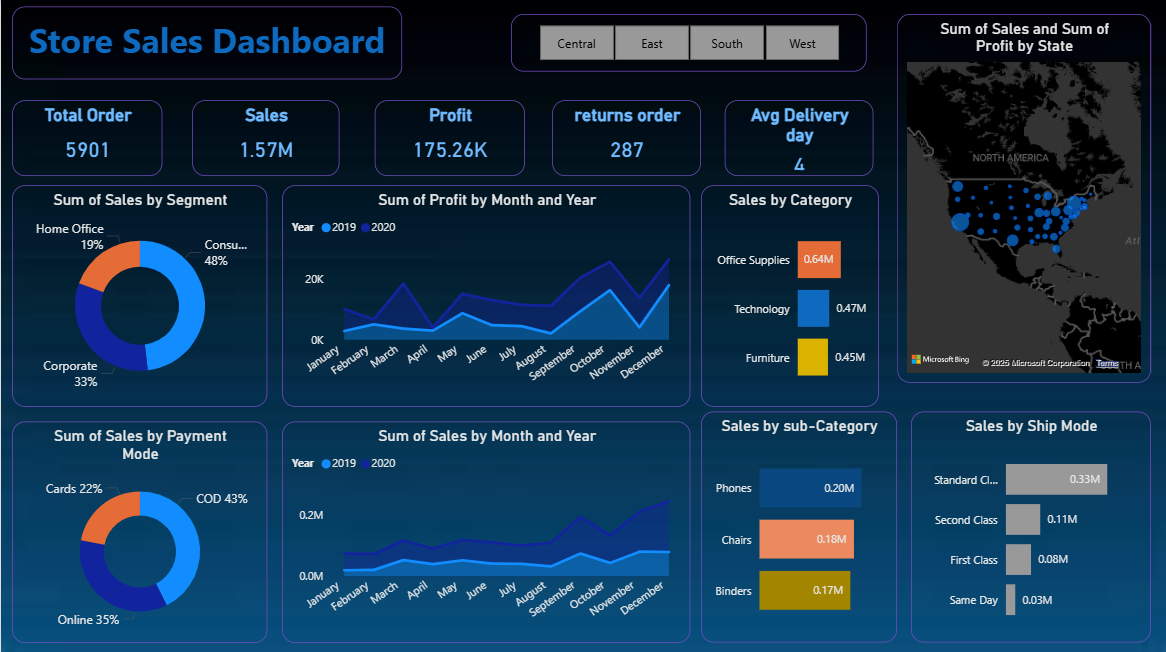

Layout of this report page (visuals, bound fields, positions):
{"tool":"powerbi","page":{"name":"Page 1","canvas":[1280,720],"ordinal":0},"visuals":[{"type":"clusteredBarChart","title":"Sales by Category","fields":{"Category":["SuperStore_Sales_Dataset (1).Category"],"Y":["Sum(SuperStore_Sales_Dataset (1).Sales)"]},"box":[768.3,205,195,243.3],"z":0},{"type":"clusteredBarChart","title":"Sales by sub-Category","fields":{"Category":["SuperStore_Sales_Dataset (1).Sub-Category"],"Y":["Sum(SuperStore_Sales_Dataset (1).Sales)"]},"box":[768.3,453.3,215,253.3],"z":1000},{"type":"clusteredBarChart","title":"Sales by Ship Mode","fields":{"Category":["SuperStore_Sales_Dataset (1).Ship Mode"],"Y":["Sum(SuperStore_Sales_Dataset (1).Sales)"]},"box":[998.3,453.3,263.3,253.3],"z":2000},{"type":"stackedAreaChart","fields":{"Category":["SuperStore_Sales_Dataset (1).Order Date.Variation.Date Hierarchy.Month","SuperStore_Sales_Dataset (1).Order Date.Variation.Date Hierarchy.Day"],"Y":["Sum(SuperStore_Sales_Dataset (1).Sales)"],"Series":["SuperStore_Sales_Dataset (1).Order Date.Variation.Date Hierarchy.Year"]},"box":[308.3,463.3,448.3,243.3],"z":3000},{"type":"stackedAreaChart","fields":{"Category":["SuperStore_Sales_Dataset (1).Order Date.Variation.Date Hierarchy.Month","SuperStore_Sales_Dataset (1).Order Date.Variation.Date Hierarchy.Day"],"Series":["SuperStore_Sales_Dataset (1).Order Date.Variation.Date Hierarchy.Year"],"Y":["Sum(SuperStore_Sales_Dataset (1).Profit)"]},"box":[308.3,205,448.3,243.3],"z":4000},{"type":"map","fields":{"Category":["SuperStore_Sales_Dataset (1).State"],"Size":["Sum(SuperStore_Sales_Dataset (1).Sales)"]},"box":[983.3,16.7,278.3,405],"z":5000},{"type":"donutChart","fields":{"Category":["SuperStore_Sales_Dataset (1).Segment"],"Y":["Sum(SuperStore_Sales_Dataset (1).Sales)"]},"box":[11.7,205,280,243.3],"z":6000},{"type":"donutChart","fields":{"Category":["SuperStore_Sales_Dataset (1).Payment Mode"],"Y":["Sum(SuperStore_Sales_Dataset (1).Sales)"]},"box":[11.7,463.3,280,243.3],"z":7000},{"type":"slicer","fields":{"Values":["SuperStore_Sales_Dataset (1).Region"]},"box":[560,16.7,390,63.3],"z":8000},{"type":"textbox","box":[11.7,8.3,428.3,80],"z":9000},{"type":"card","title":"Sales","fields":{"Values":["Sum(SuperStore_Sales_Dataset (1).Sales)"]},"box":[210,111.7,161.7,83.3],"z":10000},{"type":"card","title":"Profit","fields":{"Values":["Sum(SuperStore_Sales_Dataset (1).Profit)"]},"box":[410,111.7,165,83.3],"z":11000},{"type":"card","title":"Total Order","fields":{"Values":["CountNonNull(SuperStore_Sales_Dataset (1).Order ID)"]},"box":[11.7,111.7,165,83.3],"z":12000},{"type":"card","title":"returns order","fields":{"Values":["Avg(SuperStore_Sales_Dataset (1).returnorder)"]},"box":[605,111.7,163.3,83.3],"z":13000},{"type":"card","title":"Avg Delivery day","fields":{"Values":["Avg(SuperStore_Sales_Dataset (1).avgdelivery)"]},"box":[795,111.7,163.3,83.3],"z":14000}]}

Visuals, with their boxes in screenshot pixels (x1, y1, x2, y2), scaled from the page's 1280x720 canvas onto the 1166x652 screenshot:
"Sales by Category" clusteredBarChart: 700/186/878/406
"Sales by sub-Category" clusteredBarChart: 700/410/896/640
"Sales by Ship Mode" clusteredBarChart: 909/410/1149/640
stackedAreaChart - SuperStore_Sales_Dataset (1).Order Date.Variation.Date Hierarchy.Month x SuperStore_Sales_Dataset (1).Order Date.Variation.Date Hierarchy.Day: 281/420/689/640
stackedAreaChart - SuperStore_Sales_Dataset (1).Order Date.Variation.Date Hierarchy.Month x SuperStore_Sales_Dataset (1).Order Date.Variation.Date Hierarchy.Day: 281/186/689/406
map - SuperStore_Sales_Dataset (1).State x Sum(SuperStore_Sales_Dataset (1).Sales): 896/15/1149/382
donutChart - SuperStore_Sales_Dataset (1).Segment x Sum(SuperStore_Sales_Dataset (1).Sales): 11/186/266/406
donutChart - SuperStore_Sales_Dataset (1).Payment Mode x Sum(SuperStore_Sales_Dataset (1).Sales): 11/420/266/640
slicer - SuperStore_Sales_Dataset (1).Region: 510/15/865/72
textbox: 11/8/401/80
"Sales" card: 191/101/339/177
"Profit" card: 373/101/524/177
"Total Order" card: 11/101/161/177
"returns order" card: 551/101/700/177
"Avg Delivery day" card: 724/101/873/177
